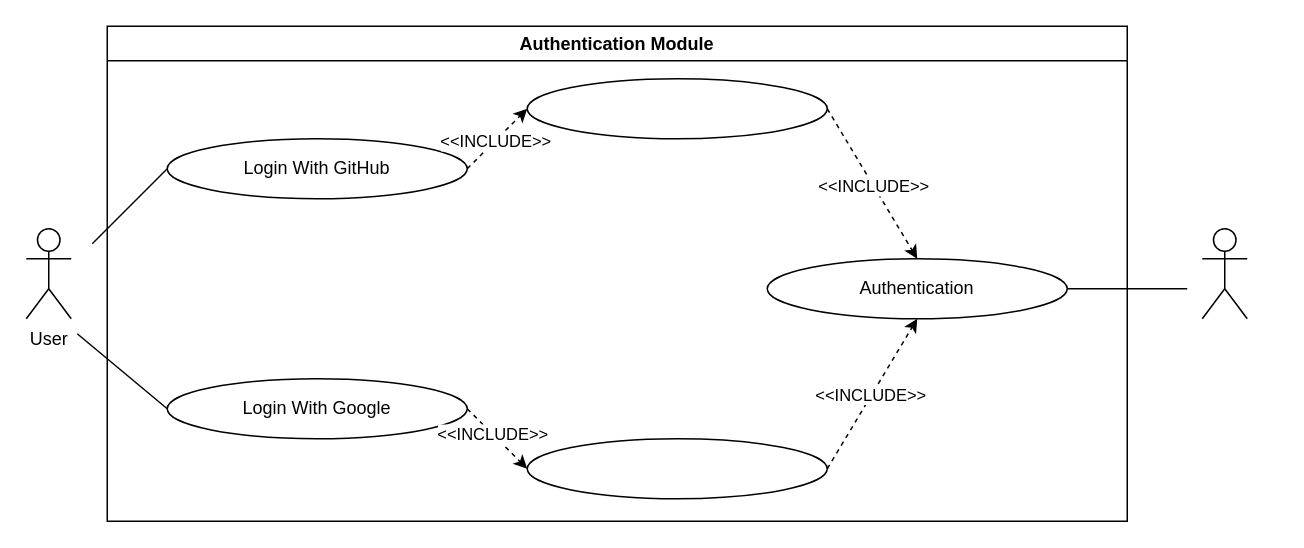
The diagram is 1304 pixels wide and 548 high, and some of its shapes have lost their labels. The centre of each missing label's shape, as x and y in pixels:
3rd Party Authenticator: point 1224,273
Authenticate via Github: point 676,108
Authenticate via Google: point 676,468
